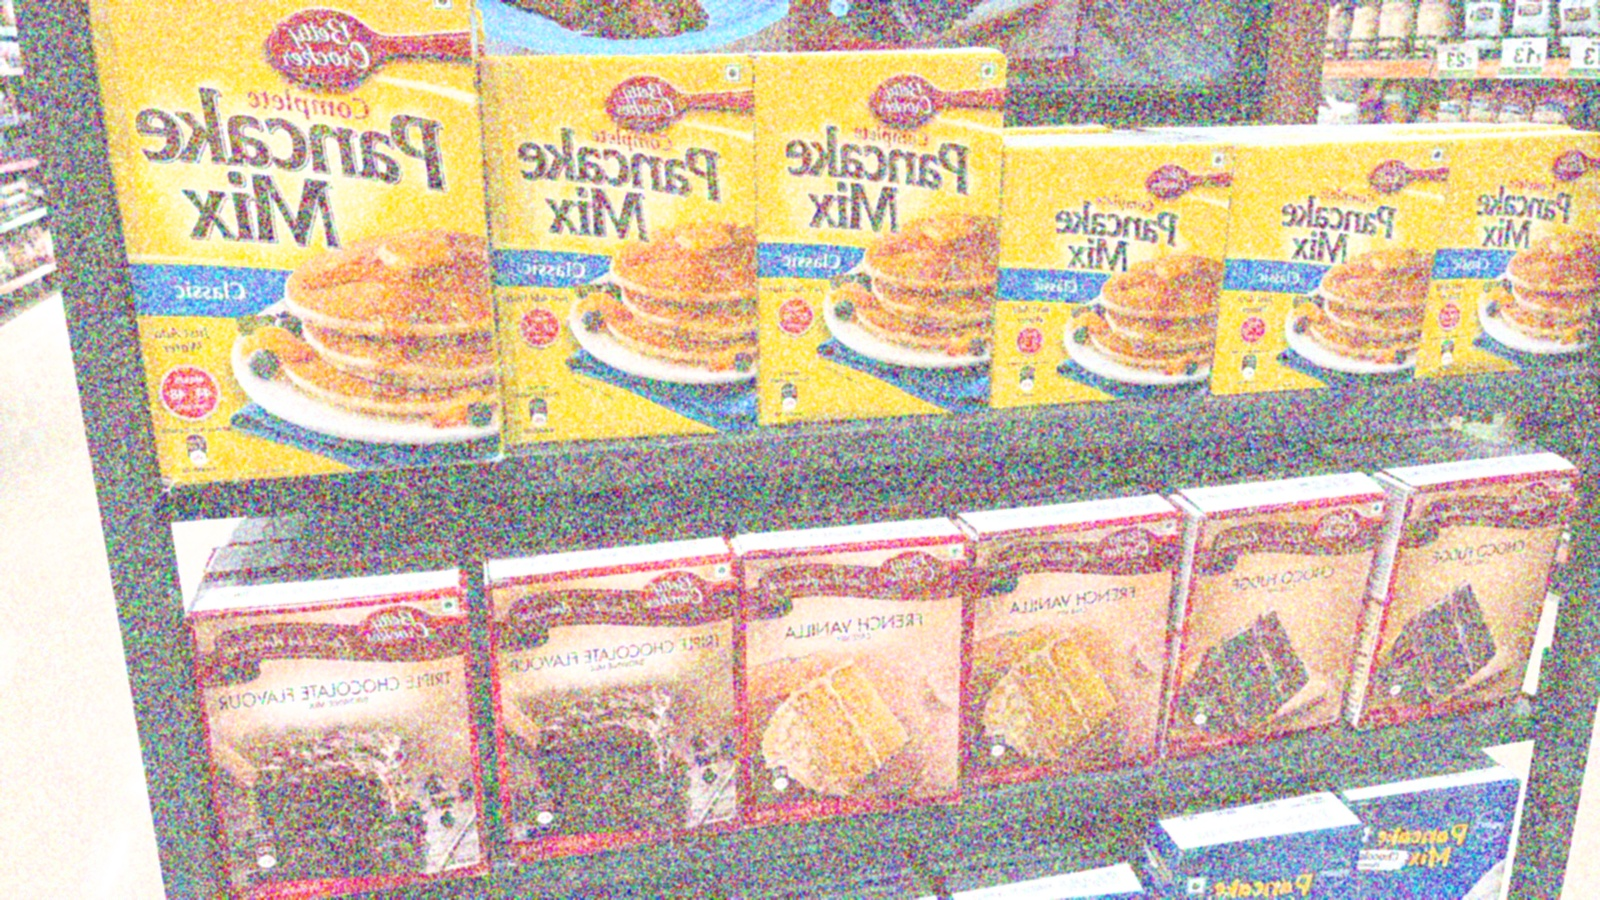Betty Crocker Pancake Mix: (145, 0, 467, 504), (497, 40, 754, 470), (748, 48, 1012, 434), (976, 131, 1238, 422), (1193, 133, 1459, 410), (1405, 132, 1599, 388)
